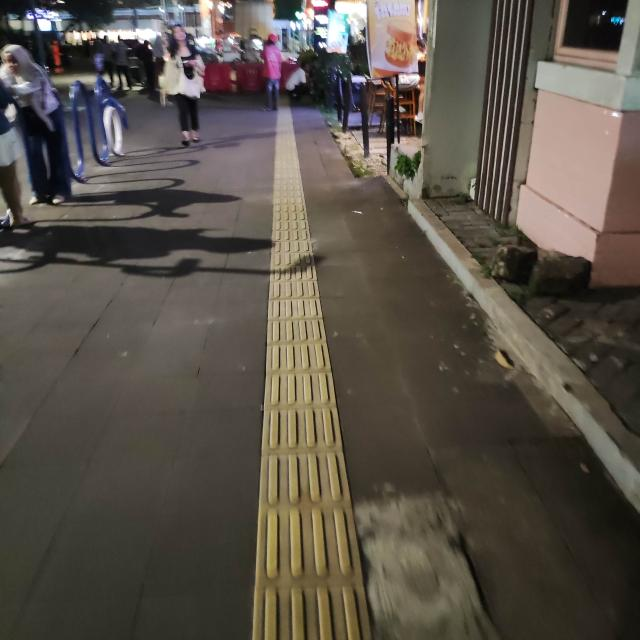lurus: (252, 111, 368, 640)
